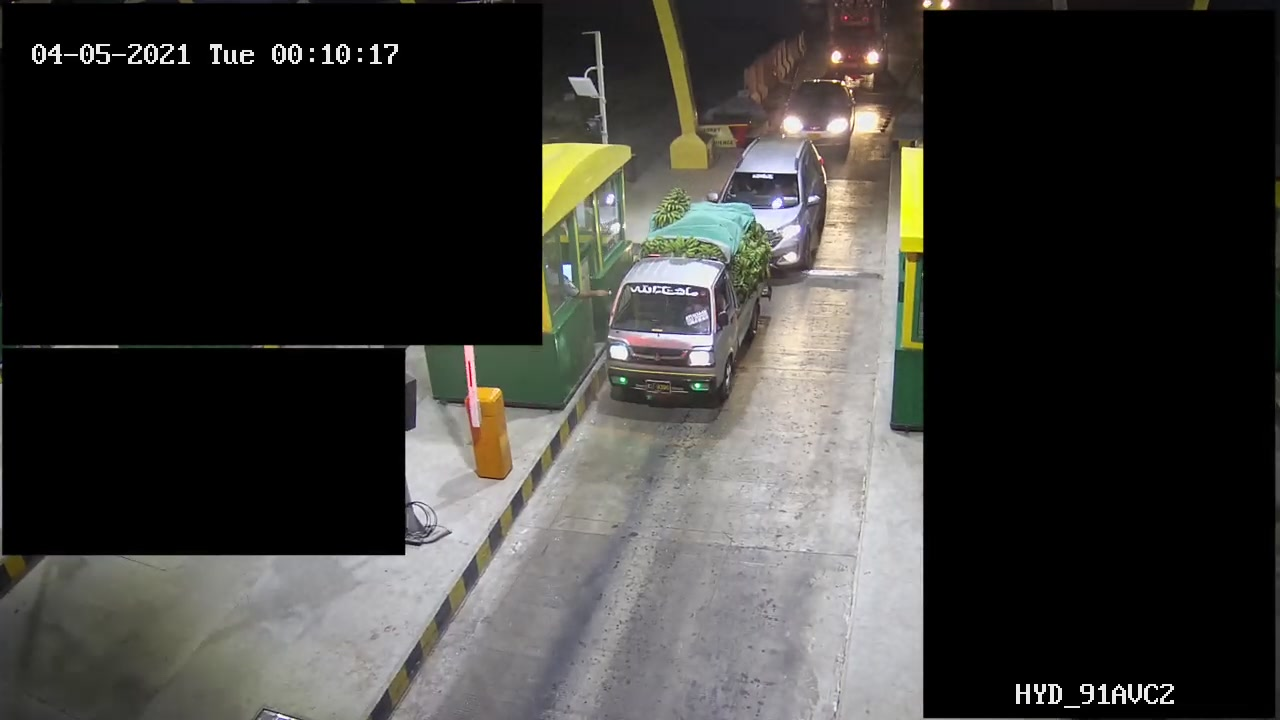F1: (597, 196, 763, 427)
